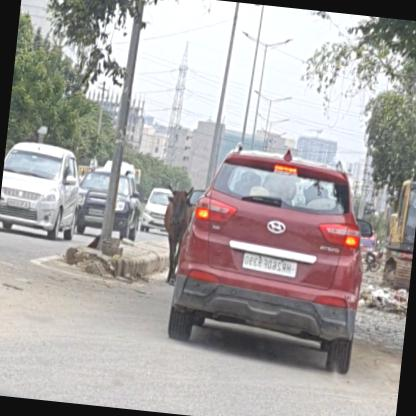car: (165, 137, 381, 374), (0, 138, 85, 242), (71, 170, 143, 242), (137, 185, 172, 236)
